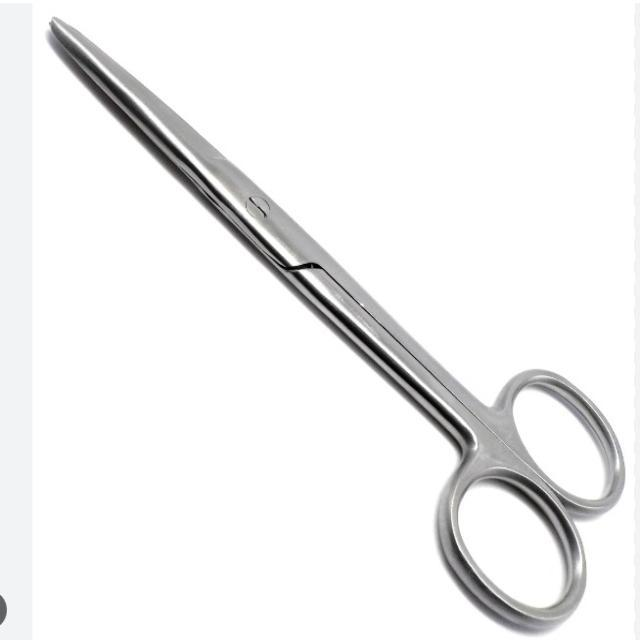Straight Mayo: (40, 5, 627, 632)
